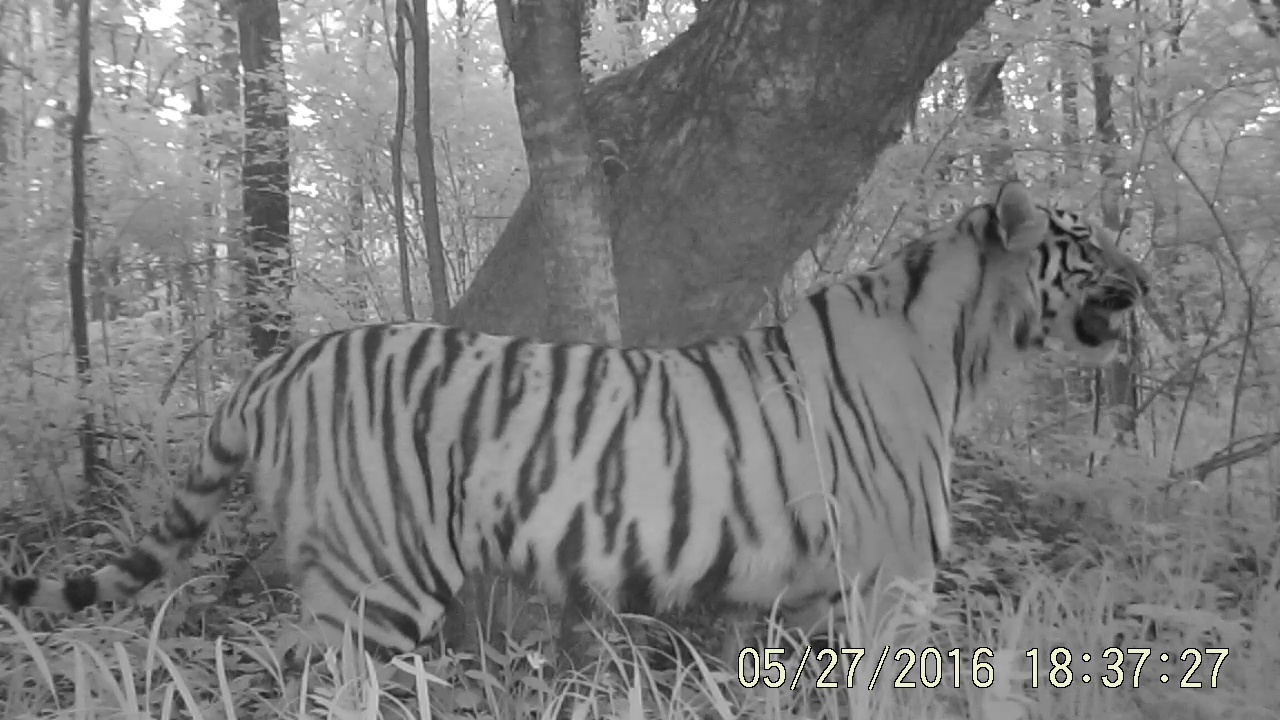Tiger: (30, 174, 1182, 701)
